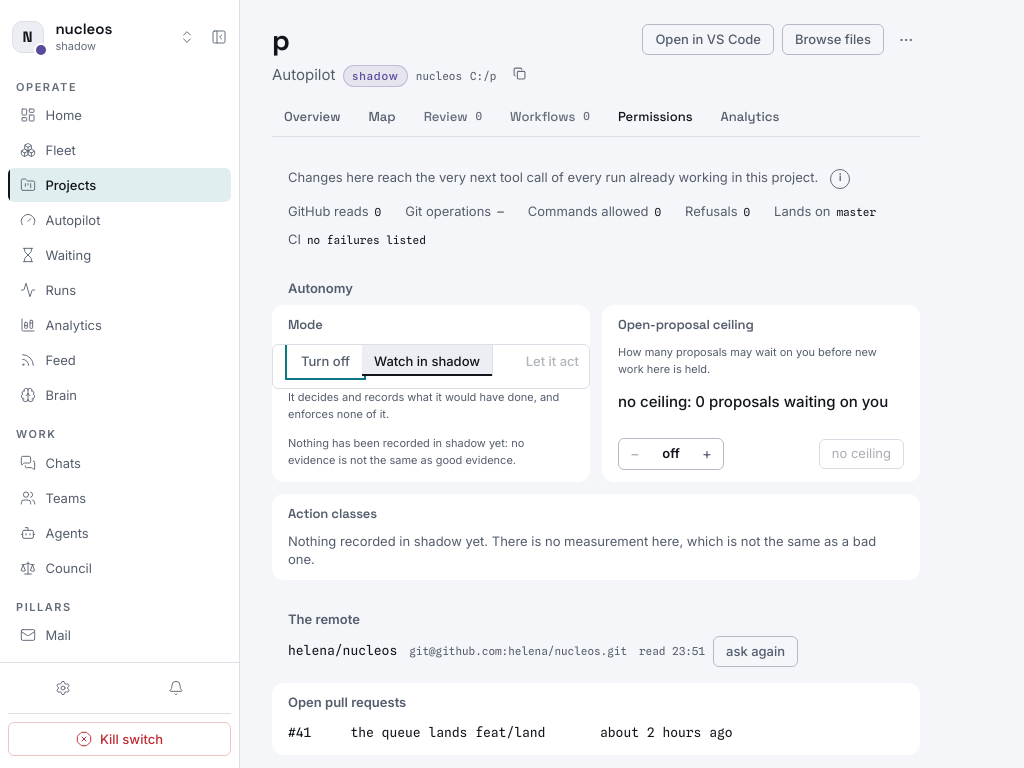
Scenario: the mode switch says which mode is set › keeps focus on the segment that was pressed once it becomes the setting
Click the button "Turn off".
click(326, 361)  # box top-left (289, 345), bottom-right (362, 376)
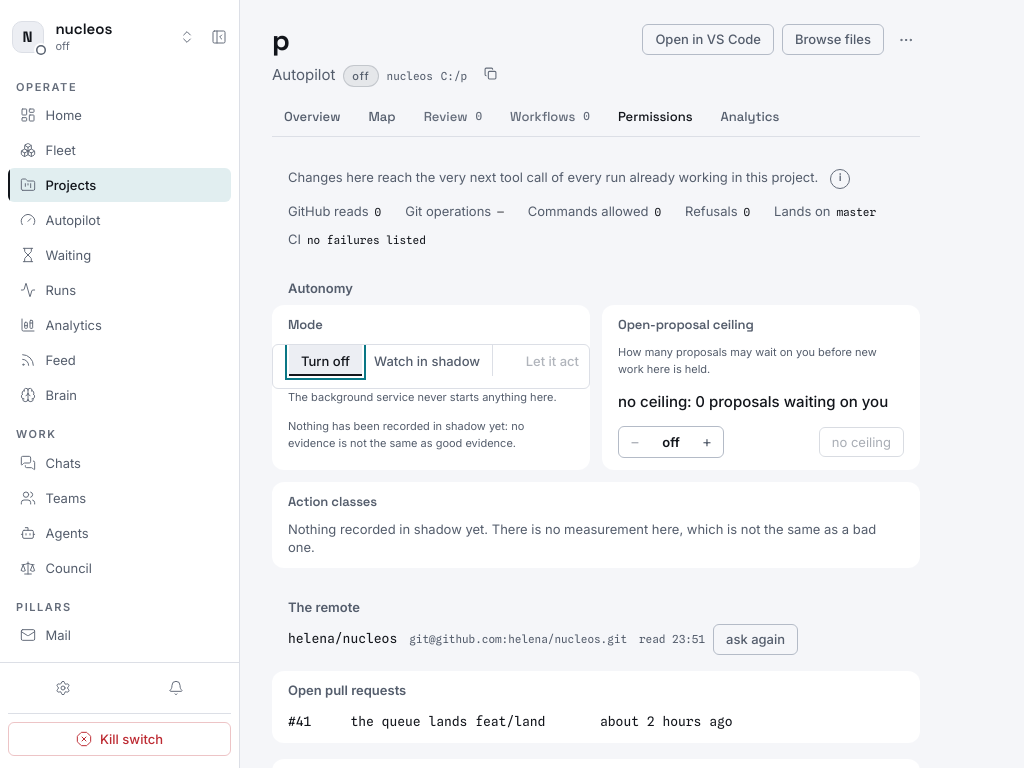
Now the button "Turn off" is enabled, box top-left (289, 345), bottom-right (362, 376)
